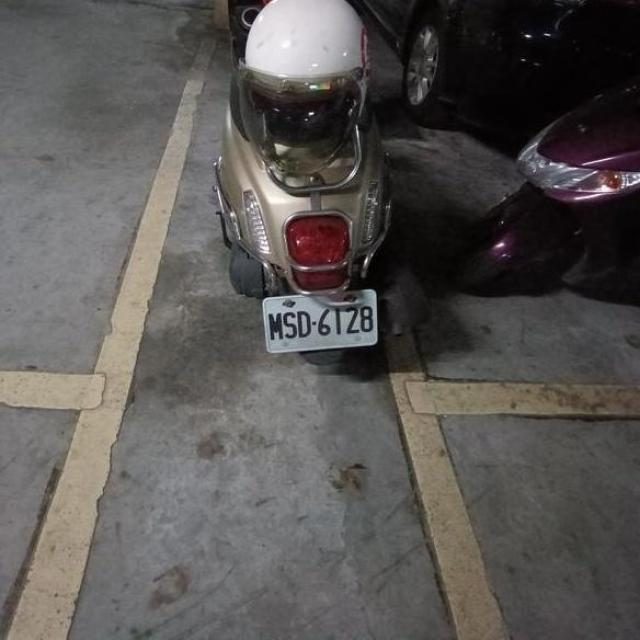W: (258, 284, 382, 357)
